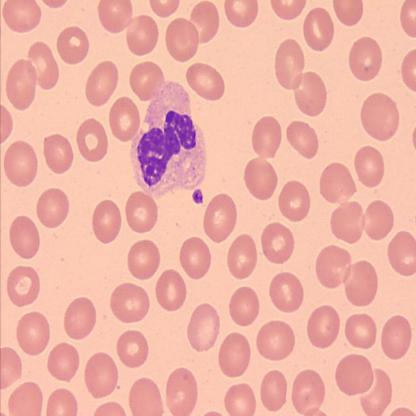Segmented neutrophil: (128, 77, 207, 200)
